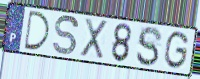8: (110, 22, 133, 64)
D: (23, 9, 52, 52)
G: (163, 30, 191, 71)
S: (52, 14, 81, 57), (135, 25, 164, 68)
X: (80, 17, 109, 60)
